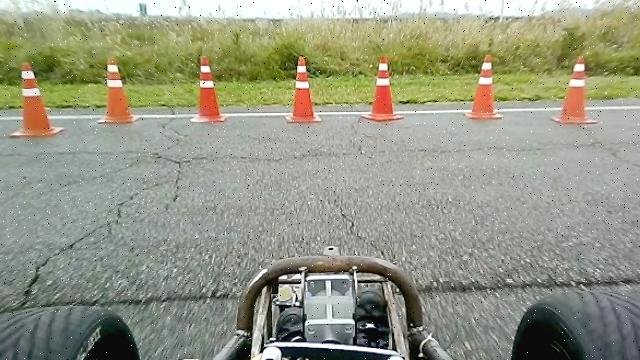red cone: (8, 61, 64, 138), (550, 55, 598, 124), (359, 54, 404, 121), (97, 56, 139, 123), (463, 54, 504, 118), (284, 54, 321, 123), (189, 54, 226, 122)
